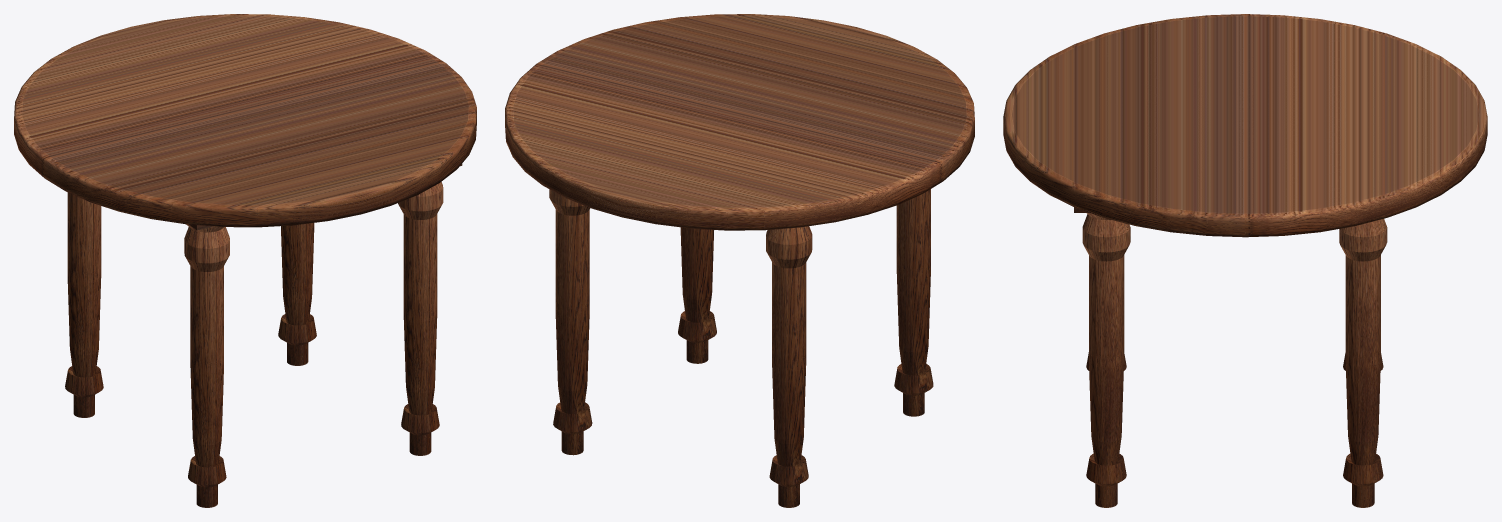
Rendered from table.fbx.
3 renders of one model, left to right at view 1: azimuth 30°, elevation 25°; view 2: azimuth 150°, elevation 25°; view 3: azimuth 270°, elevation 25°, orthographic. The views are drawn at different scales.
Visible parts, largest first — view 1: pCylinder6; view 2: pCylinder6; view 3: pCylinder6.
Part boxes in pixels (box(x1,y1,x2,y2)): pCylinder6: box(14, 14, 476, 507); pCylinder6: box(505, 14, 974, 507); pCylinder6: box(1003, 14, 1487, 507).
Size of the model in its own units: 13.97 by 10.6 by 13.97.
